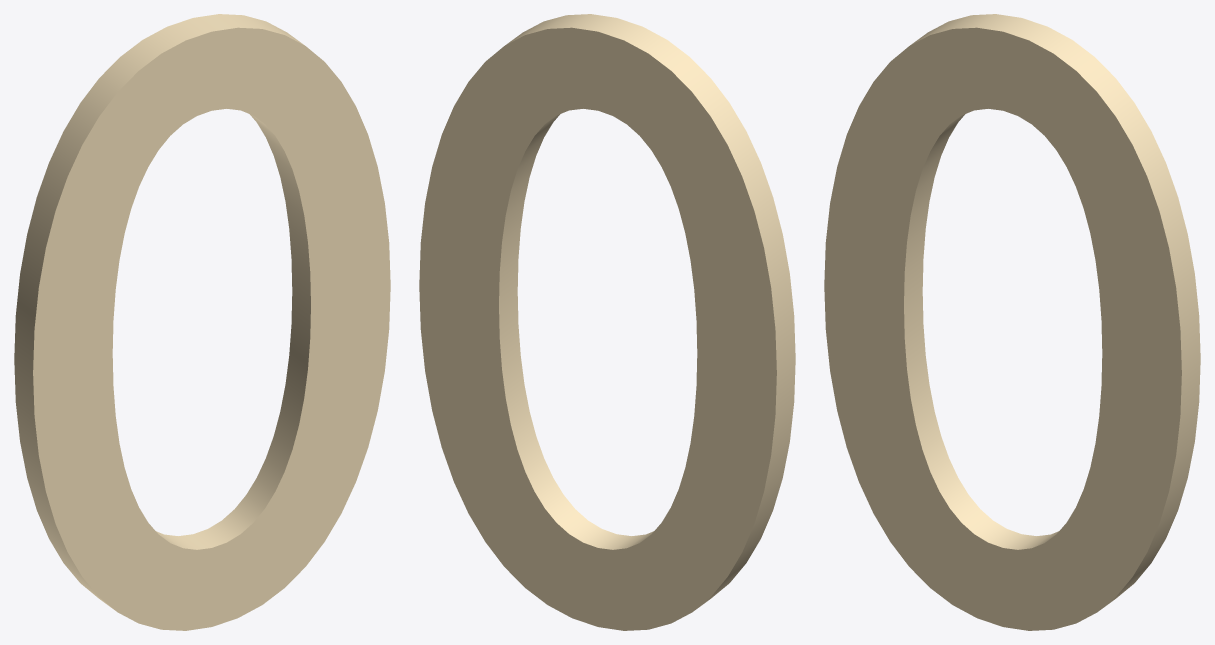
3 views of the same model, side by side, from view 1: azimuth 30°, elevation 25°; view 2: azimuth 150°, elevation 25°; view 3: azimuth 330°, elevation 25° (orthographic).
Visible parts, largest first — view 1: テキスト; view 2: テキスト; view 3: テキスト.
Part boxes in pixels (x1,y1,x2,y2): テキスト: (14, 14, 390, 630); テキスト: (419, 14, 795, 630); テキスト: (824, 14, 1200, 630).
Size of the model in its own units: 0.44 by 0.7 by 0.04.
